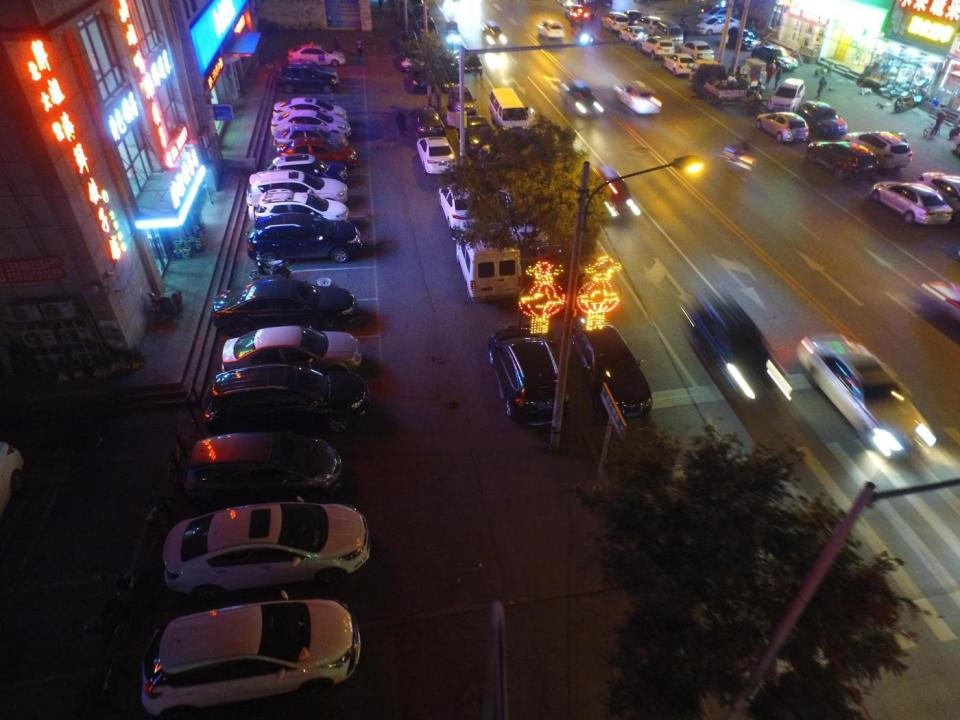car: (140, 602, 360, 717), (162, 502, 371, 602), (795, 331, 936, 463), (199, 364, 371, 431), (180, 428, 342, 499), (680, 300, 785, 390), (565, 312, 654, 418), (489, 327, 568, 422), (209, 278, 357, 328), (222, 326, 362, 374), (245, 216, 362, 261), (527, 244, 586, 314), (248, 189, 348, 224), (873, 180, 952, 224), (250, 171, 347, 206), (584, 164, 639, 222), (846, 126, 910, 172), (501, 186, 552, 242), (808, 140, 878, 180), (277, 138, 358, 172), (270, 155, 348, 186), (612, 72, 666, 115), (438, 184, 483, 228), (756, 109, 810, 144), (277, 64, 343, 92), (923, 172, 959, 222), (273, 113, 347, 137), (416, 136, 460, 176), (799, 100, 846, 137), (559, 77, 603, 116), (274, 97, 348, 120), (274, 124, 346, 145), (286, 42, 346, 66), (767, 77, 805, 111), (757, 45, 799, 71), (285, 57, 338, 74), (638, 36, 673, 60), (478, 22, 508, 49), (662, 53, 694, 77), (698, 3, 736, 22), (679, 41, 714, 60), (729, 30, 757, 53), (699, 16, 736, 33), (617, 25, 649, 44), (602, 12, 628, 35), (410, 65, 431, 93), (416, 17, 437, 43), (637, 14, 658, 38), (400, 50, 425, 70), (538, 20, 565, 38), (398, 31, 418, 54), (566, 5, 591, 23), (625, 10, 642, 28)
truck: (691, 60, 746, 106)
van: (455, 232, 521, 301), (486, 88, 528, 139), (462, 116, 497, 160), (408, 107, 445, 138), (433, 53, 461, 90), (449, 84, 473, 116), (654, 19, 682, 45)
